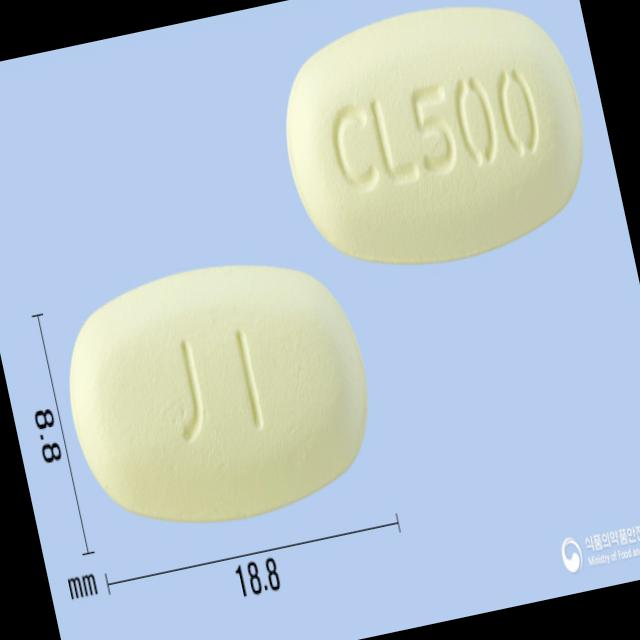Jecli: (46, 234, 388, 548), (263, 0, 605, 288)
